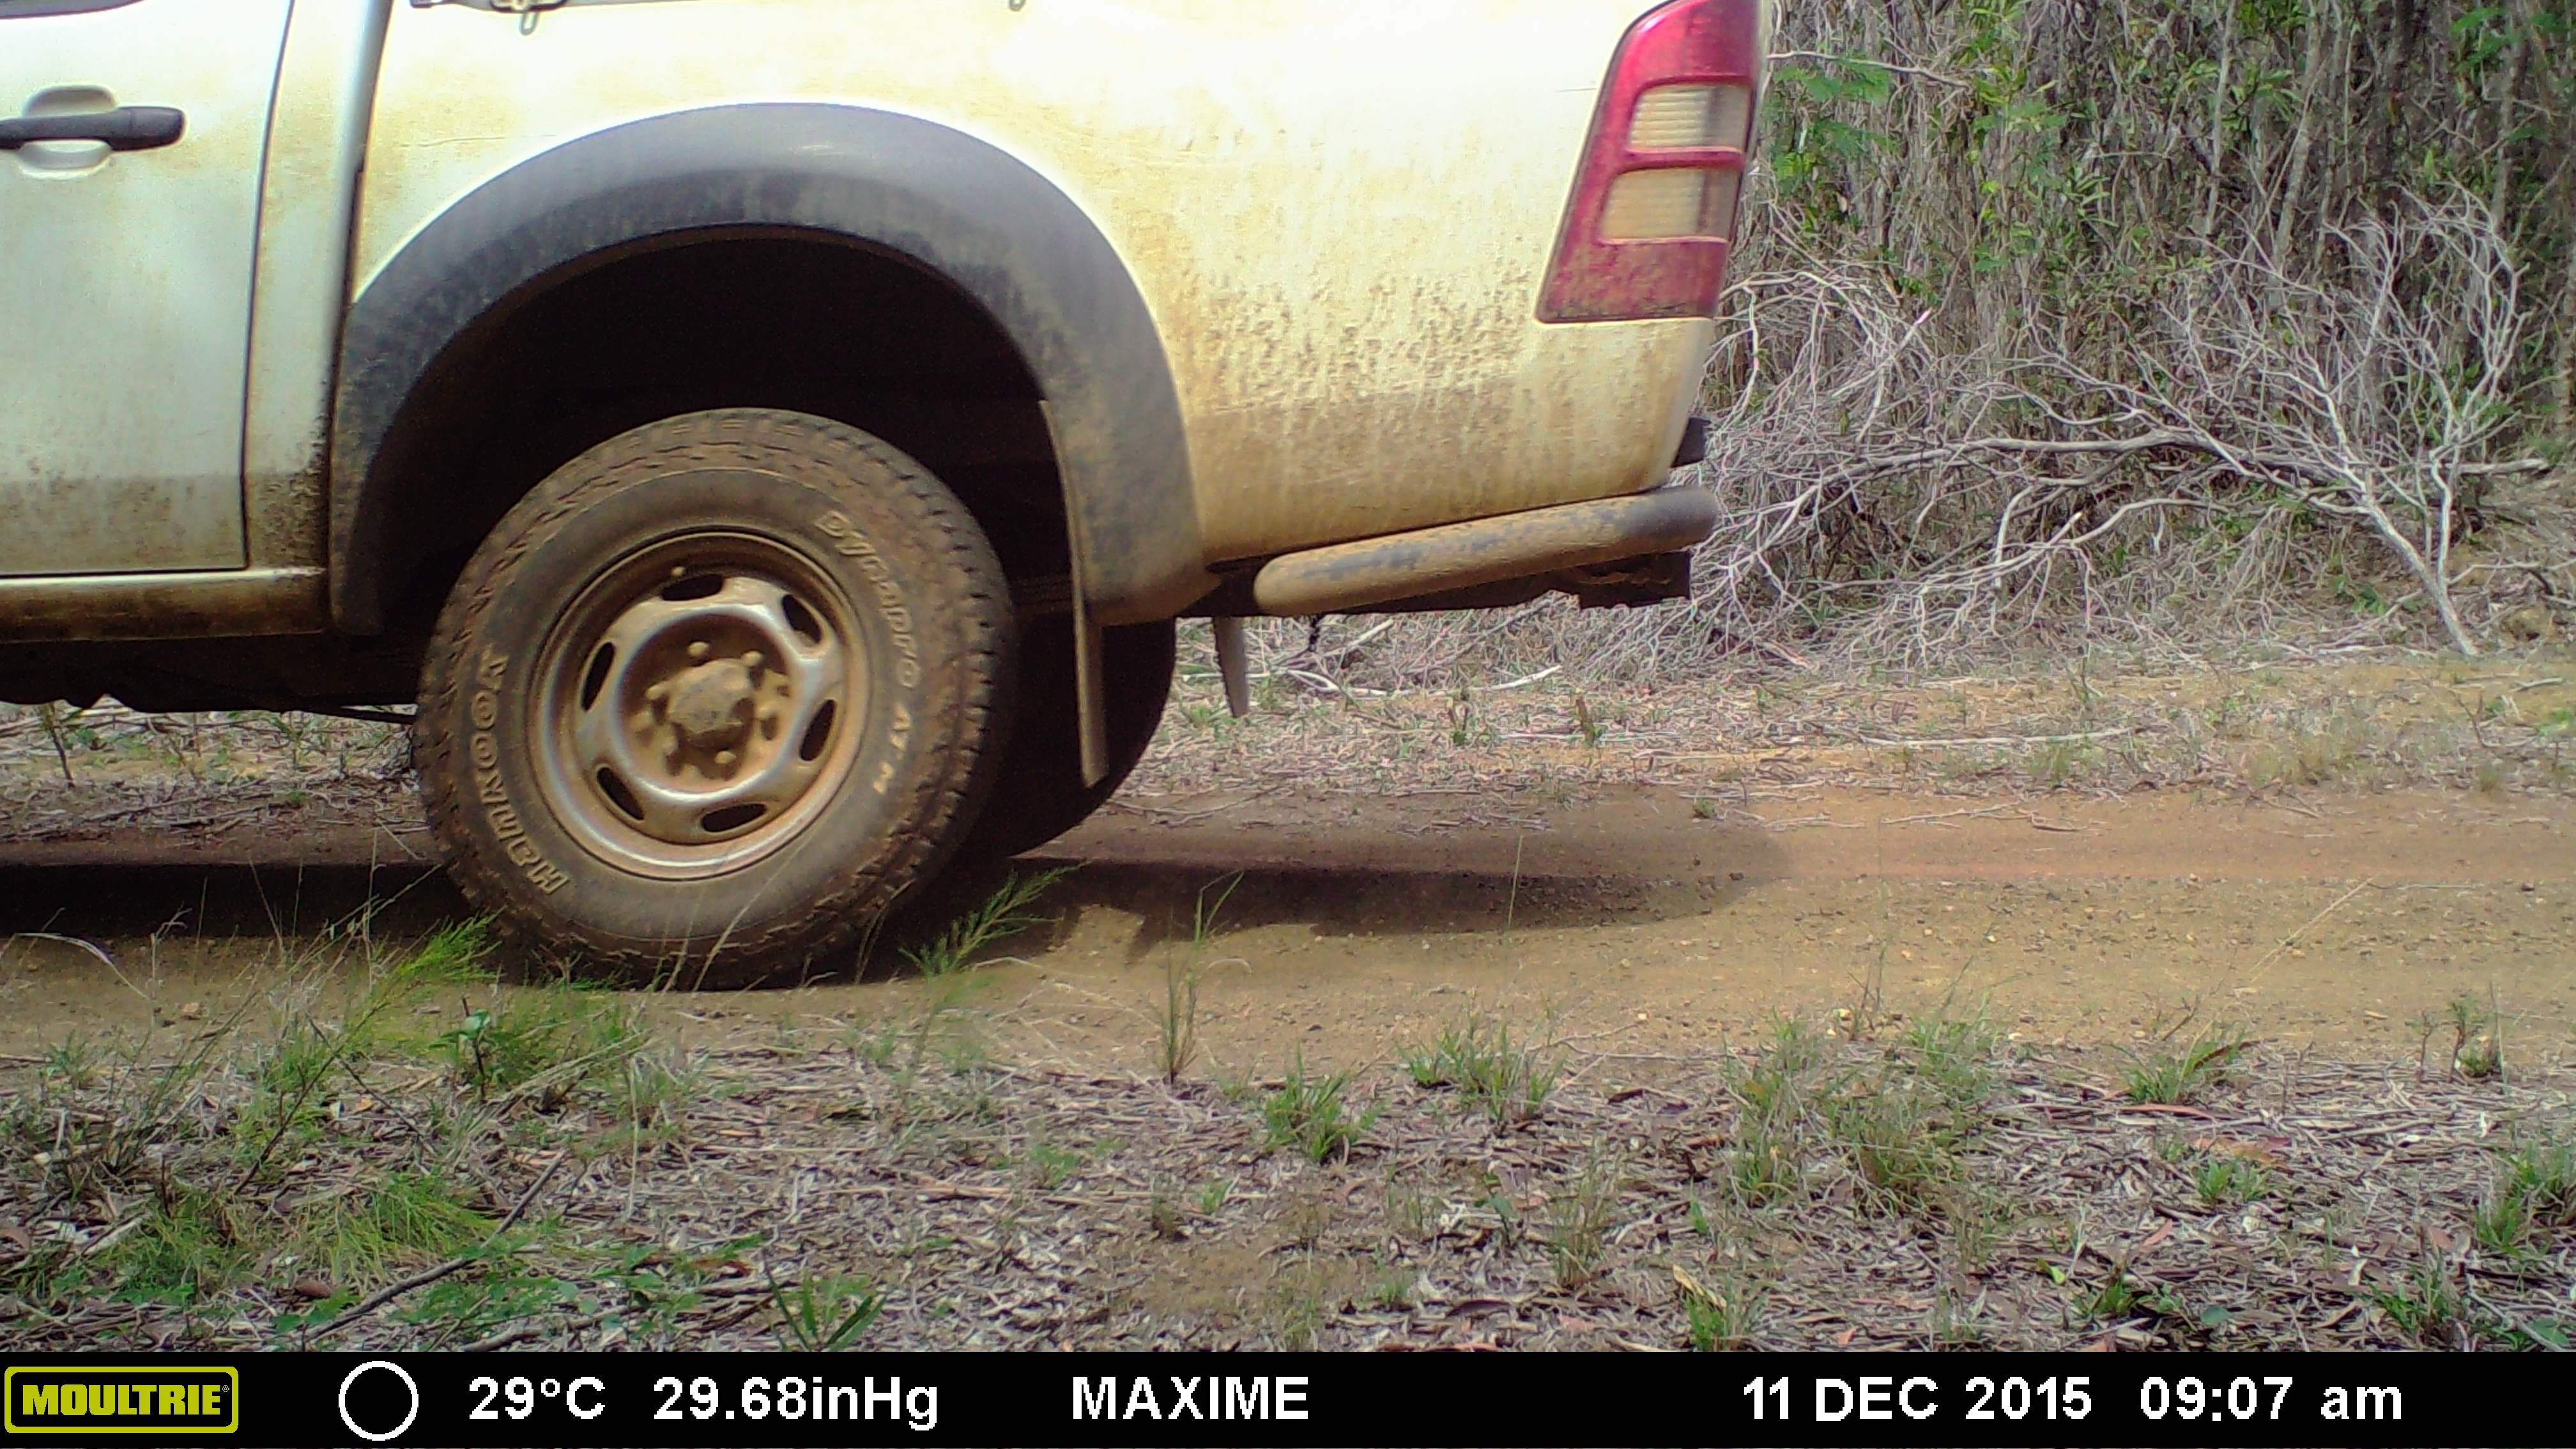Car: (2, 5, 1785, 971)
